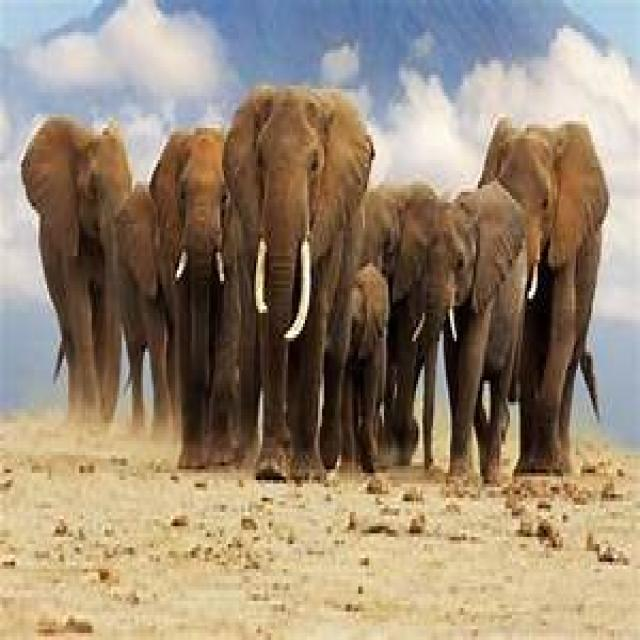elephant: (222, 85, 378, 476), (478, 121, 610, 476), (19, 114, 164, 434), (388, 178, 529, 487), (156, 128, 233, 469)
